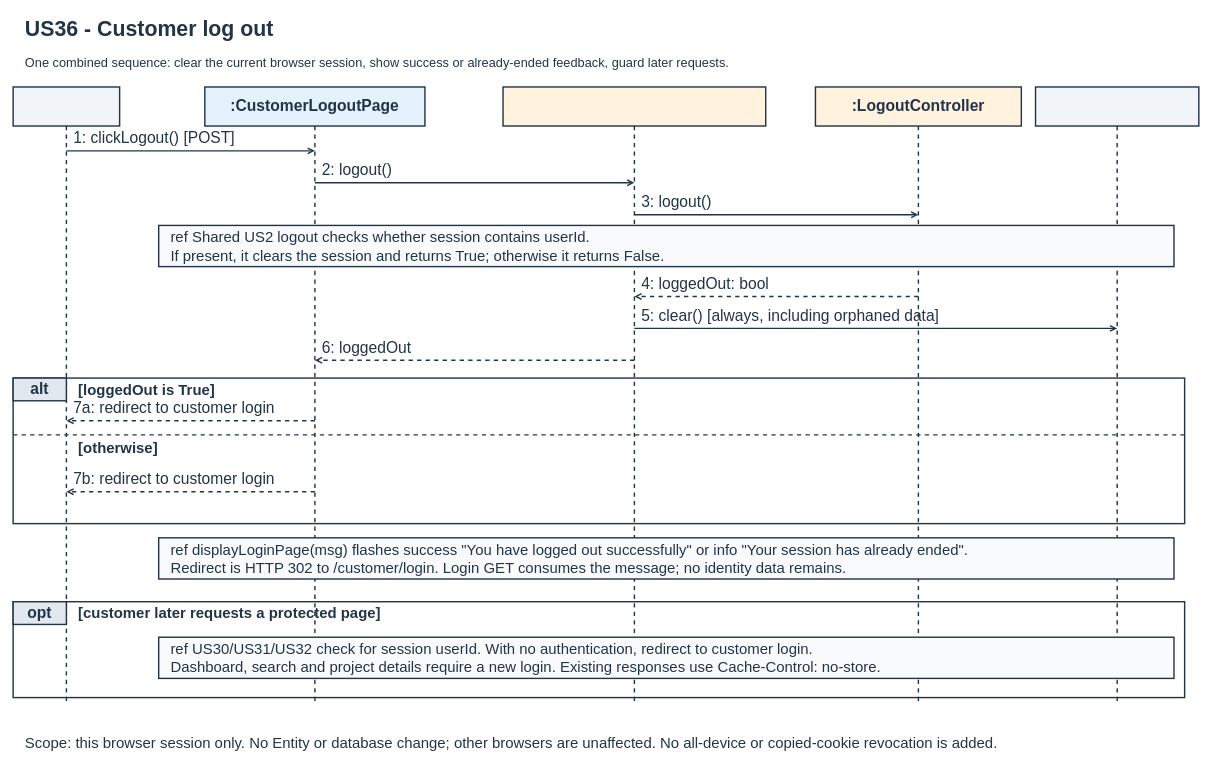
Some shapes in this 1211 by 766 pixel diagram are drawn without their labels. Here are the shapes that lost their labels. From the top down, the centre of each, then its label:
the point at 66,106: Customer
the point at 634,106: :CustomerLogoutController
the point at 1116,106: Flask session
